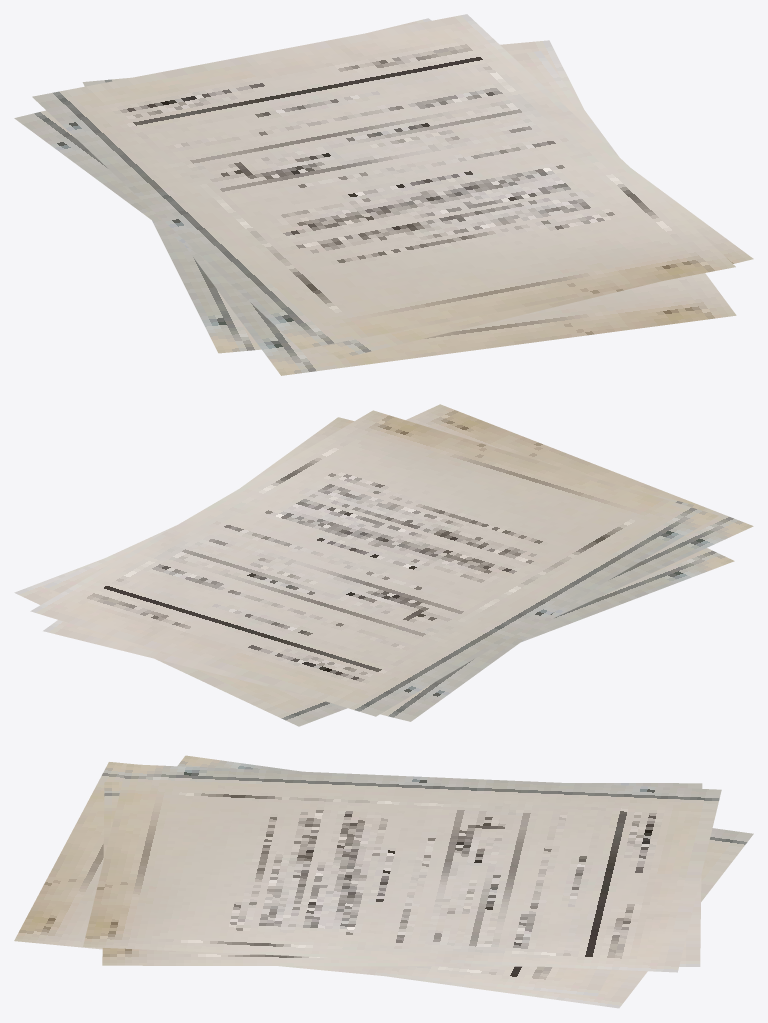
Rendered from papers_log_1_stack.glb.
3 views of the same model, one above another, from view 1: azimuth 30°, elevation 25°; view 2: azimuth 150°, elevation 25°; view 3: azimuth 270°, elevation 25° (orthographic). The views are drawn at different scales.
Parts seen in each view (by area): view 1: Paper_LogStack1; view 2: Paper_LogStack1; view 3: Paper_LogStack1.
Part boxes in pixels (x1,y1,x2,y2): Paper_LogStack1: (14,14,753,375); Paper_LogStack1: (14,404,753,726); Paper_LogStack1: (14,755,753,1008).
Size of the model in its own units: 0.2798 by 0.00704 by 0.3458.
Materials: 1 (1 with a texture image).
